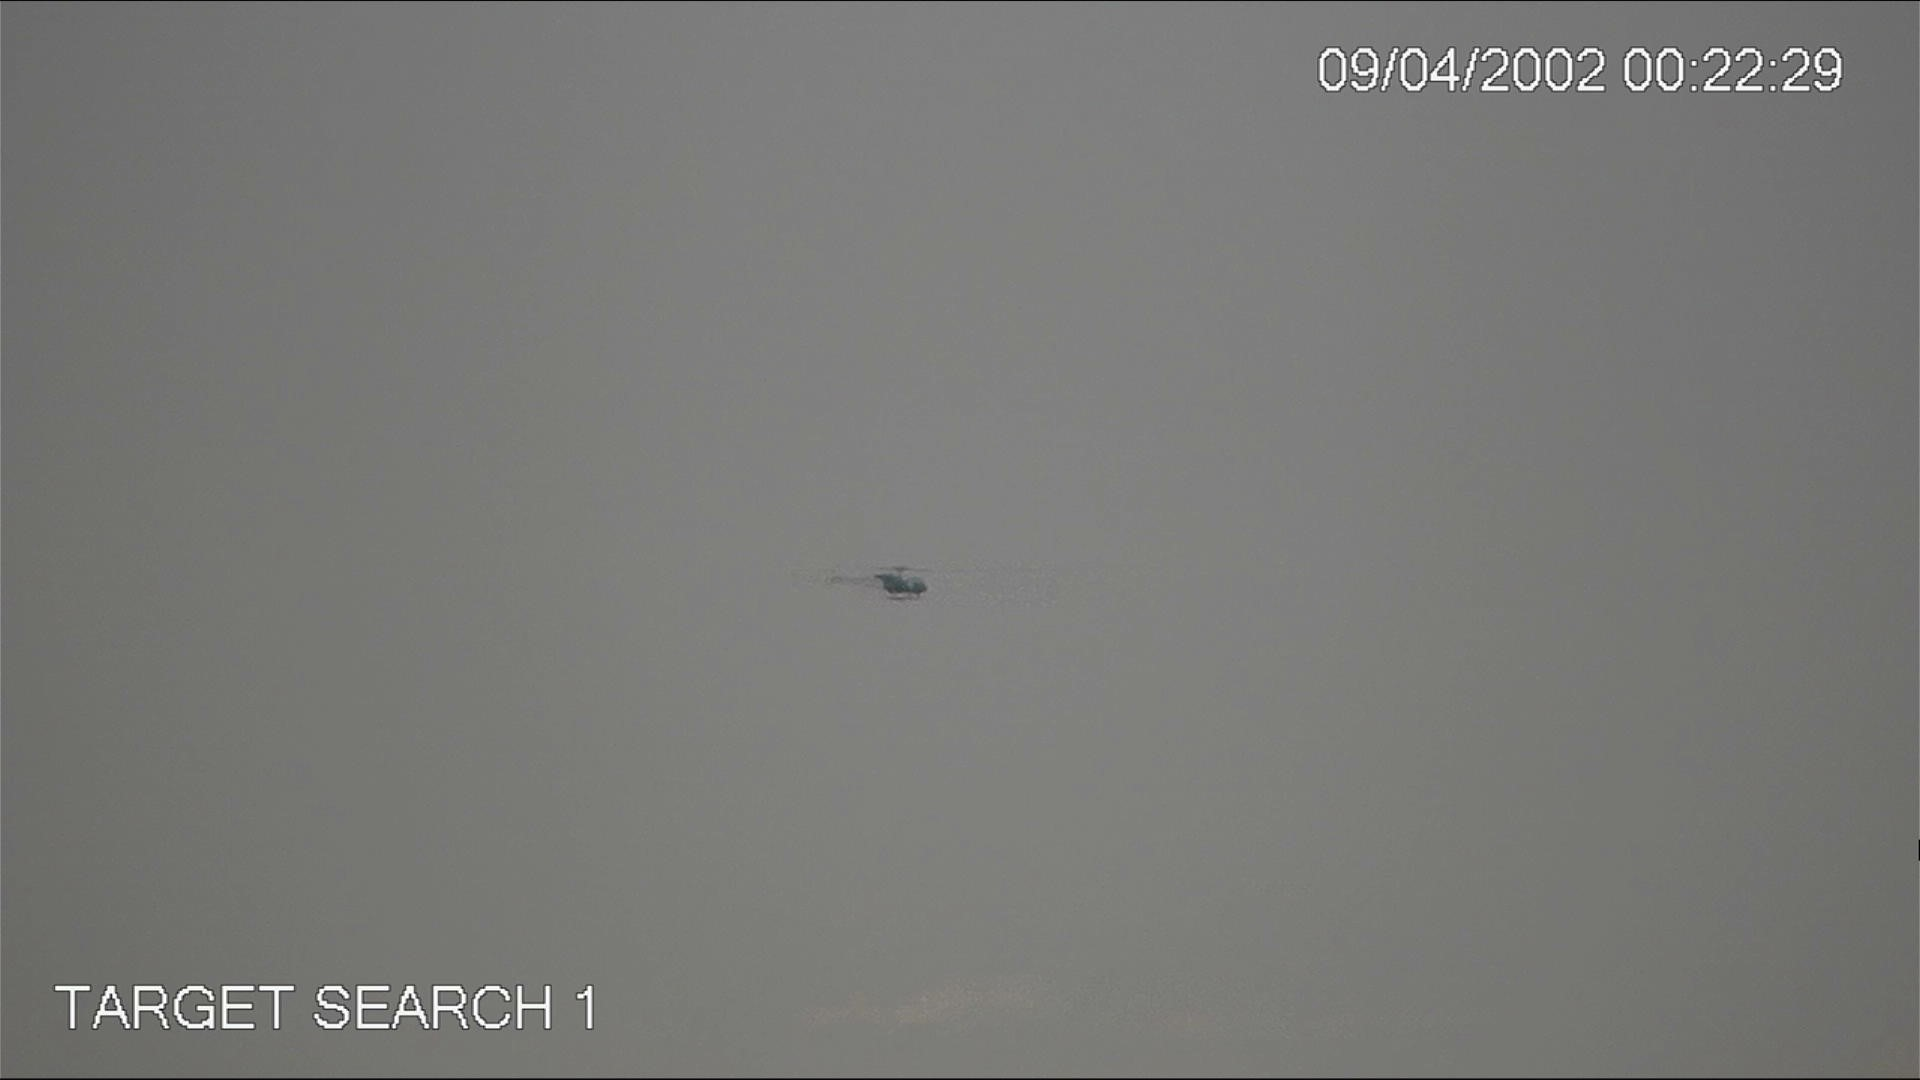SU_30: (822, 556, 938, 605)
